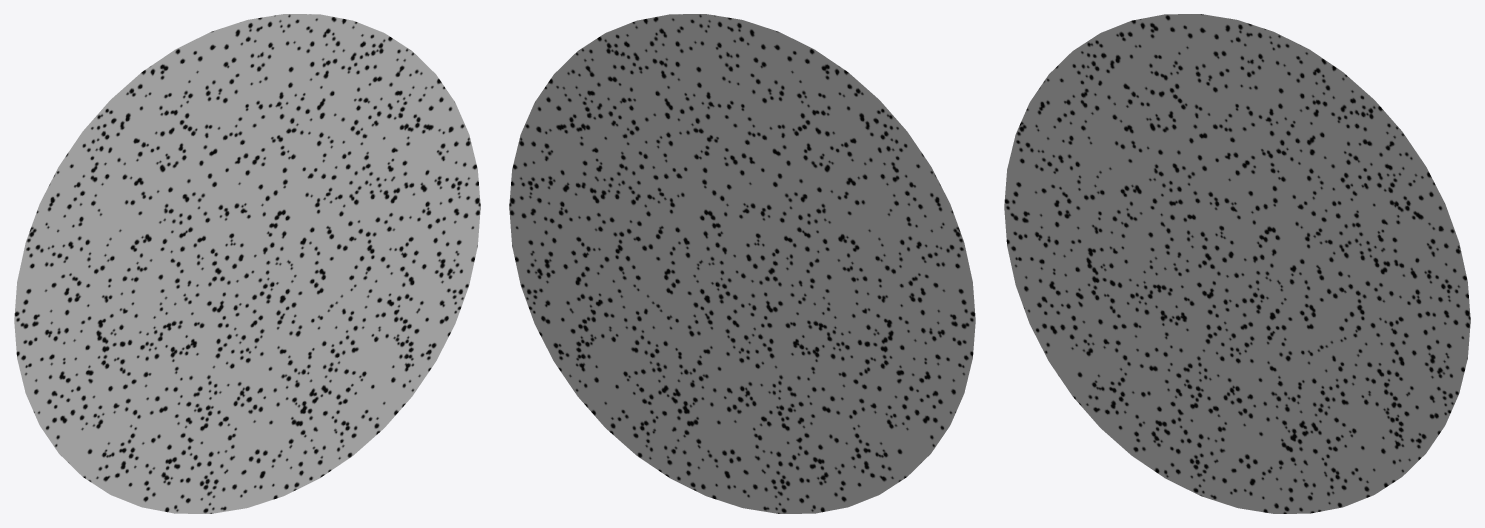
File: surface_texture.obj
3 renders of one model, left to right at view 1: azimuth 30°, elevation 25°; view 2: azimuth 150°, elevation 25°; view 3: azimuth 330°, elevation 25°, orthographic.
Parts seen in each view (by area): view 1: surface_texture; view 2: surface_texture; view 3: surface_texture.
Boxes of the visible parts, x1,y1,x2,y2 form: surface_texture: [14, 14, 480, 513]; surface_texture: [509, 14, 975, 513]; surface_texture: [1004, 14, 1470, 513].
Size of the model in its own units: 144 by 144 by 0.
1 material, 1 textured.
